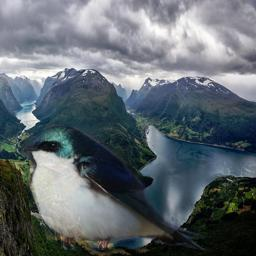Swallow: (19, 123, 205, 250)
